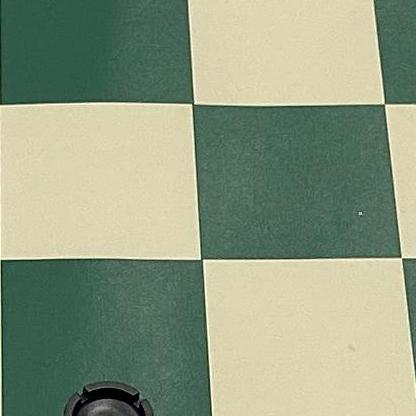black-rook: (34, 374, 167, 416)
